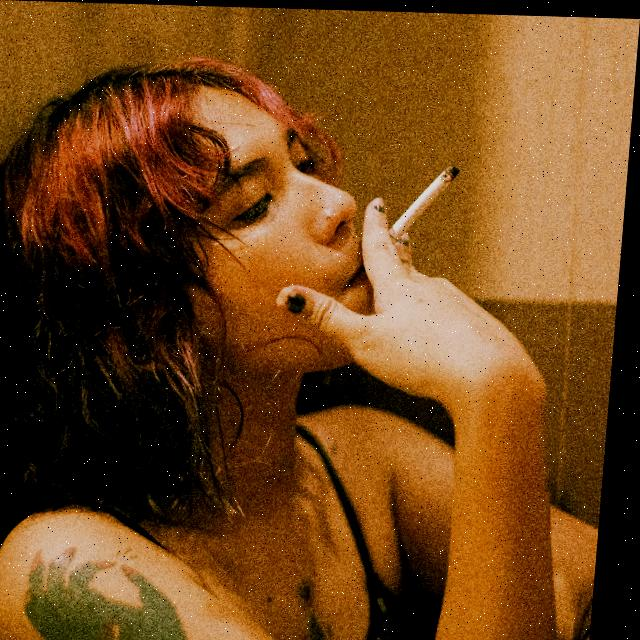cigarette: (391, 161, 463, 243)
